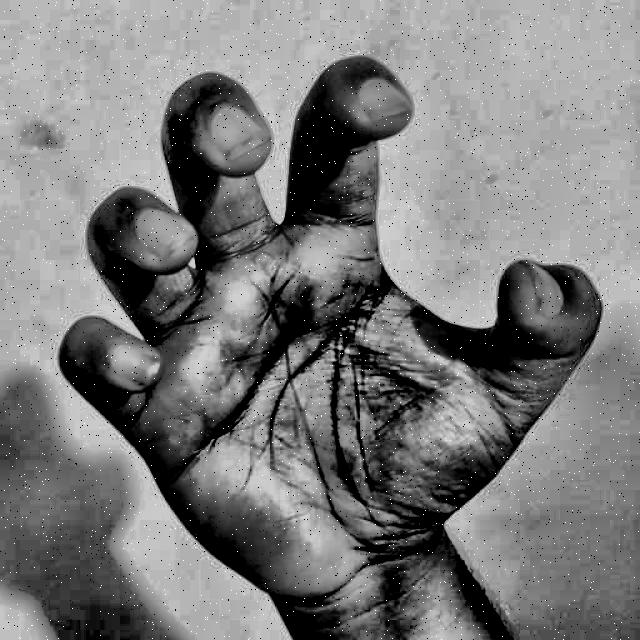Ja: (41, 35, 617, 627)
